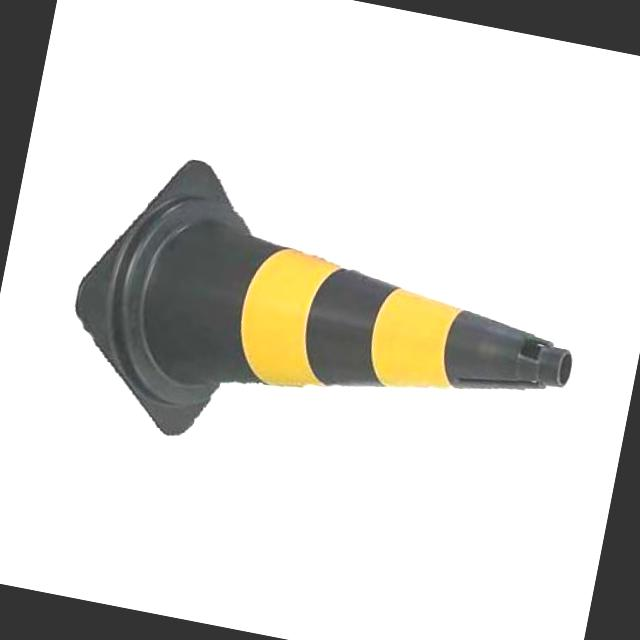cone: (56, 152, 598, 496)
